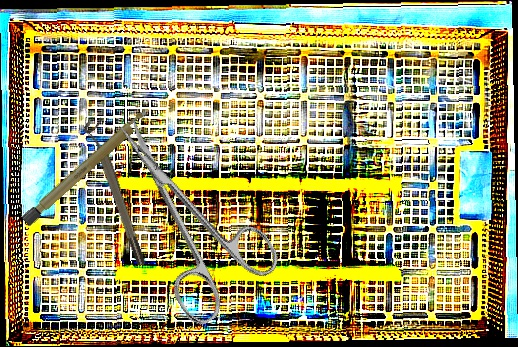Fixation Ring: (81, 116, 149, 270)
Iris Scissors: (83, 91, 289, 331)
Scalpel Handle: (20, 105, 154, 228)
